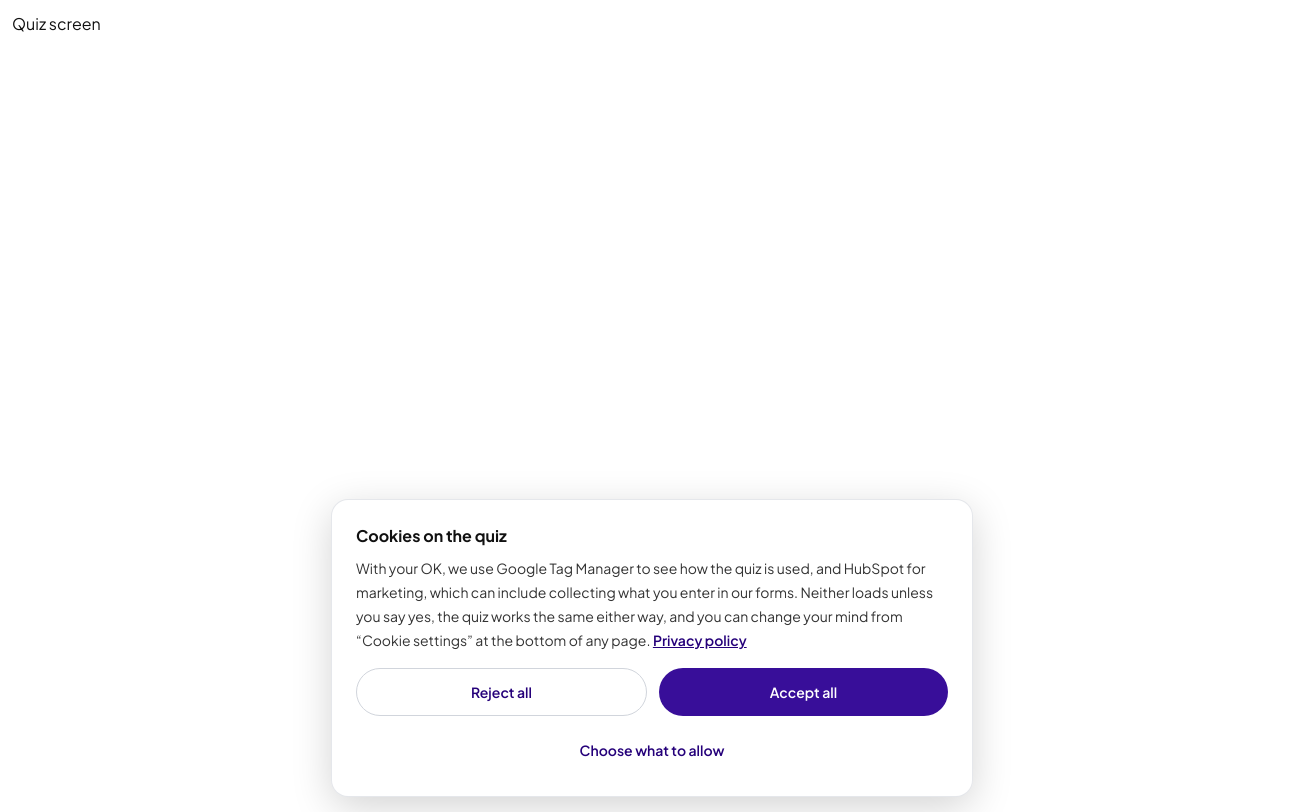
it: ConsentManager › stores a refusal and still loads nothing
Click the button "Reject all": (502, 692) 356,668 -> 647,716
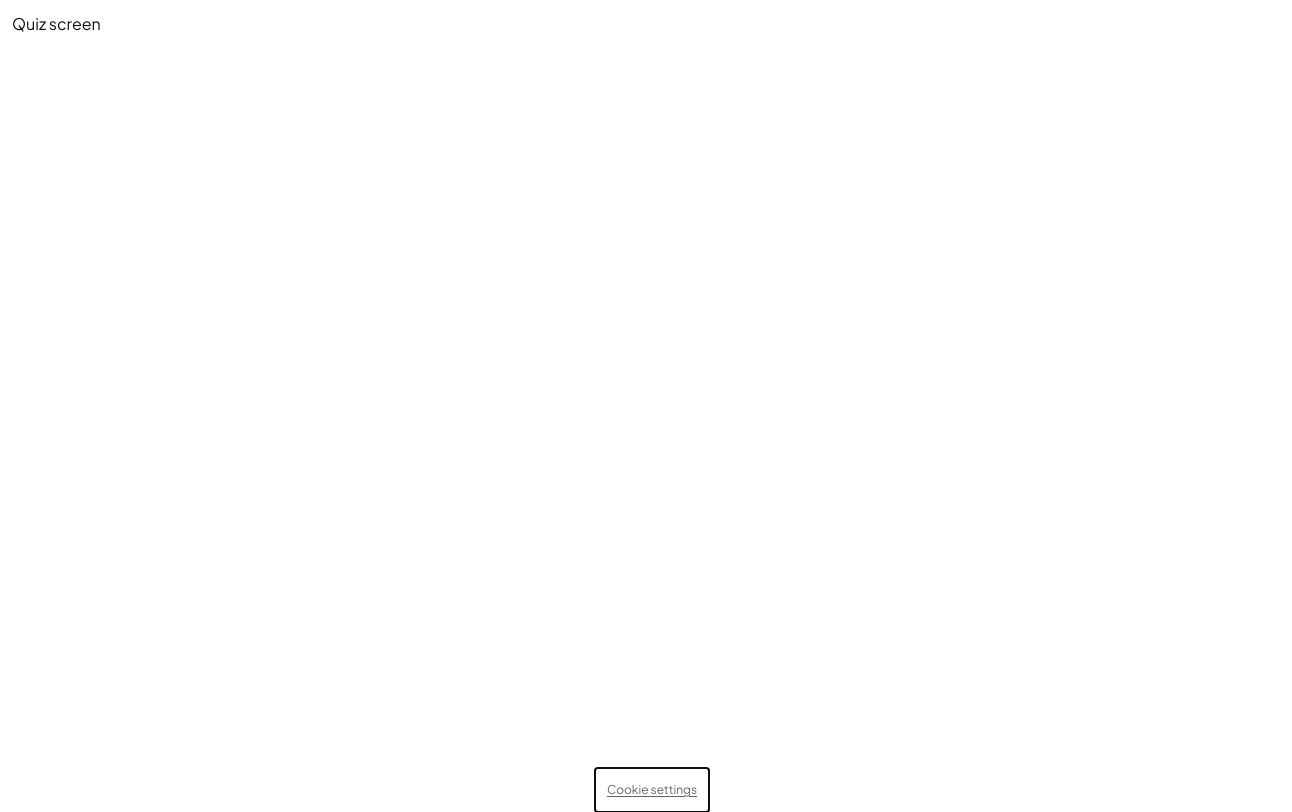
Expected: the heading "Cookies on the quiz" is gone
